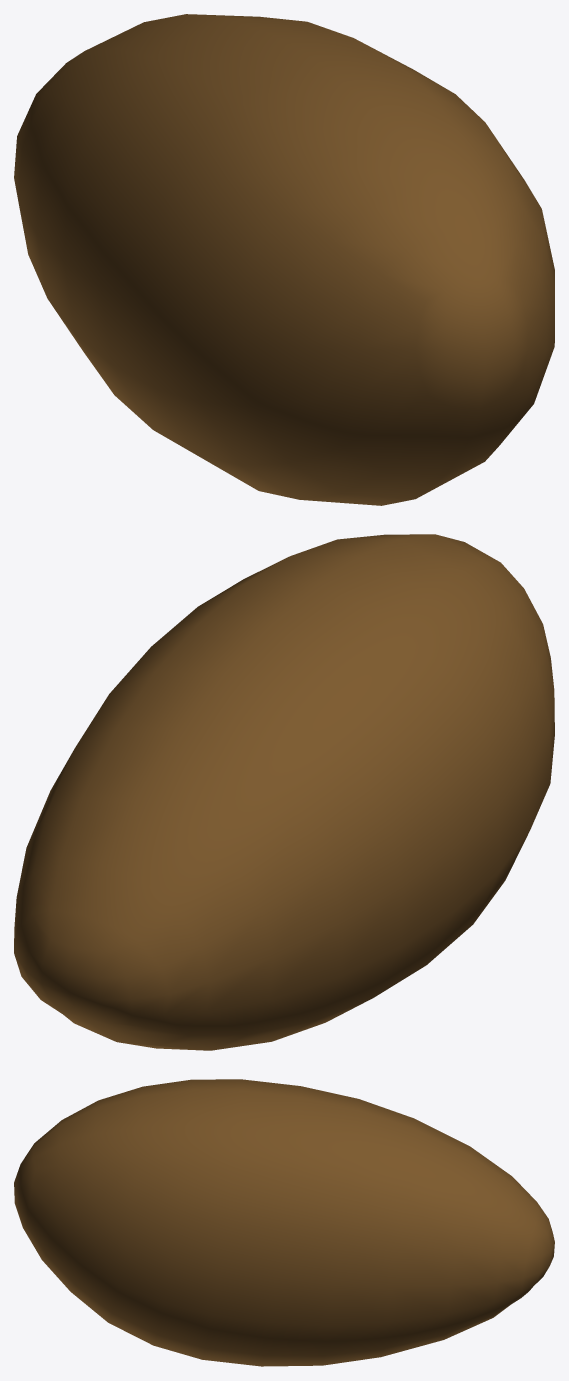
The model's file is SeedBullet.fbx.
The picture shows the model from 3 angles, top to bottom: view 1: azimuth 30°, elevation 25°; view 2: azimuth 150°, elevation 25°; view 3: azimuth 270°, elevation 25°; orthographic projection. The views are drawn at different scales.
Visible parts, largest first — view 1: Seed; view 2: Seed; view 3: Seed.
Part boxes in pixels (x1,y1,x2,y2): Seed: (14, 14, 554, 505); Seed: (14, 534, 554, 1050); Seed: (14, 1079, 554, 1366).
Size of the model in its own units: 0.00264 by 0.00292 by 0.00542.
